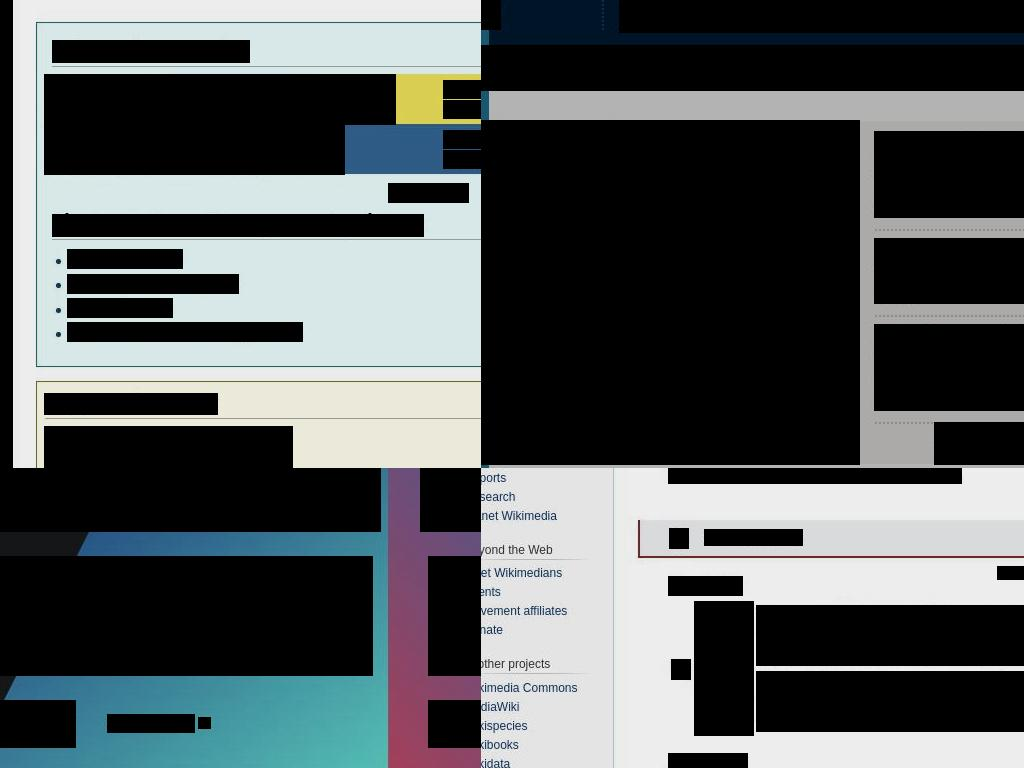button: (481, 120, 860, 465), (0, 468, 381, 532), (874, 131, 1024, 218), (874, 324, 1024, 411), (874, 238, 1024, 304), (856, 45, 1011, 91), (709, 45, 857, 91), (563, 45, 710, 91), (934, 422, 1024, 465), (481, 45, 564, 91), (0, 700, 76, 748), (428, 700, 481, 748)
heading: (481, 468, 618, 768), (481, 372, 849, 400), (874, 131, 1024, 195), (874, 324, 1024, 388), (52, 214, 424, 237), (874, 238, 1024, 281), (52, 40, 250, 63), (44, 393, 218, 415), (0, 477, 102, 514), (481, 542, 596, 557), (481, 657, 596, 672), (668, 576, 743, 596), (668, 753, 748, 768), (114, 479, 138, 498)
image: (481, 120, 860, 465), (44, 74, 396, 125), (44, 124, 345, 175), (44, 426, 293, 468), (428, 468, 481, 525), (669, 528, 689, 549), (671, 659, 691, 680), (198, 717, 211, 729)
link: (481, 410, 849, 453), (67, 322, 303, 342), (756, 671, 1024, 688), (67, 274, 239, 294), (874, 199, 1024, 218), (874, 285, 1024, 304), (874, 392, 1024, 411), (668, 468, 817, 484), (67, 249, 183, 269), (67, 298, 173, 318), (838, 605, 937, 622), (388, 183, 469, 203), (481, 681, 579, 696), (481, 604, 568, 619), (481, 566, 563, 581), (481, 508, 558, 523), (481, 719, 529, 734), (481, 700, 521, 715), (481, 738, 520, 753), (481, 489, 517, 504), (481, 470, 507, 485), (481, 623, 504, 638), (1000, 566, 1024, 580), (481, 757, 511, 768), (481, 585, 502, 600)
text: (0, 556, 373, 676), (756, 605, 1024, 666), (756, 671, 1024, 732), (619, 0, 1024, 33), (694, 601, 754, 736), (817, 468, 962, 484), (870, 60, 997, 78), (723, 60, 843, 78), (577, 60, 695, 78), (704, 529, 803, 546), (107, 714, 195, 733), (934, 433, 1024, 451), (756, 605, 839, 622), (481, 60, 550, 78), (443, 80, 481, 99), (443, 100, 481, 119), (443, 130, 481, 149), (443, 150, 481, 169), (997, 566, 1002, 580)
